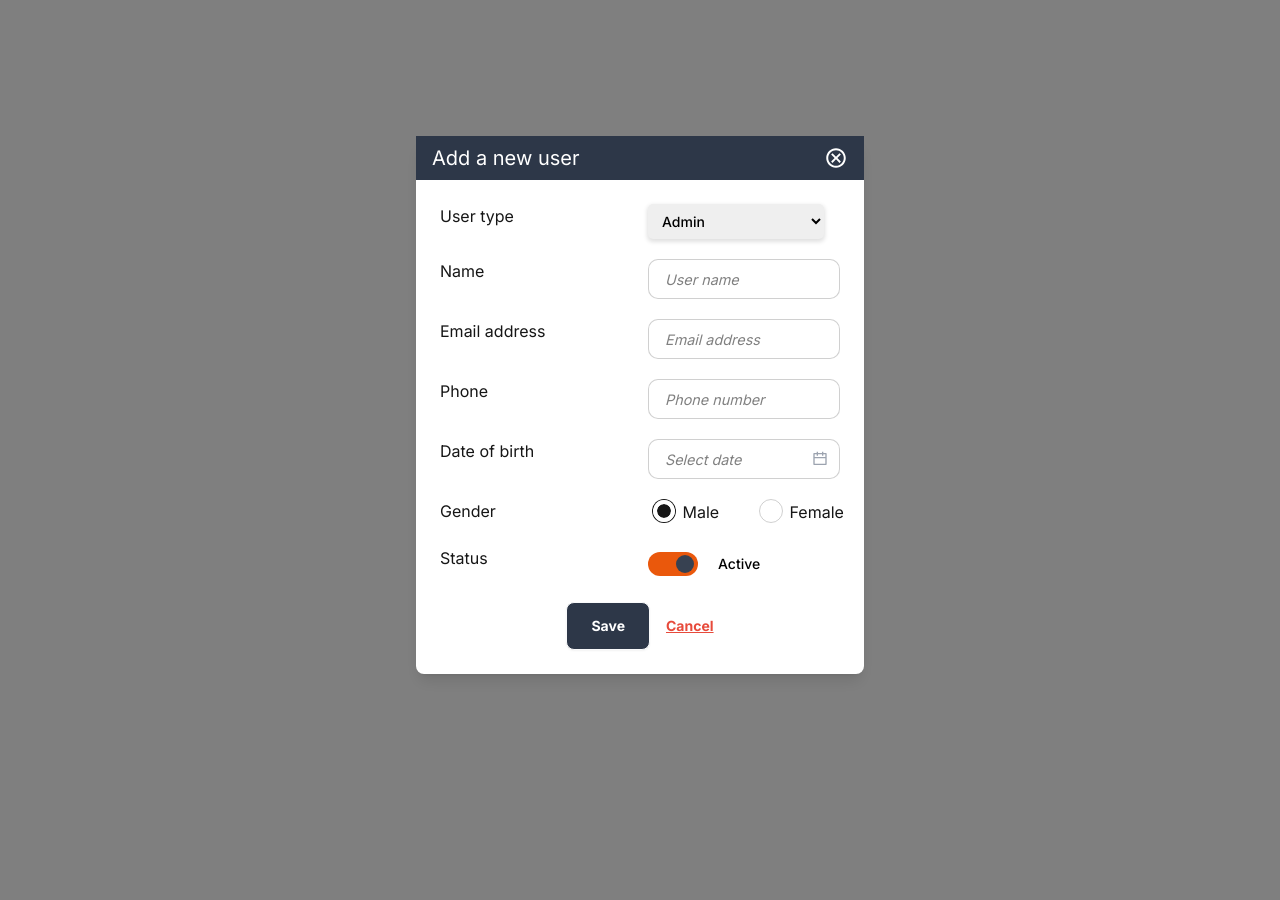
Test case: AddUserModal › Should throw an error if the input format is wrong
This screenshot has width=1280, height=900.
Select "admin" in the dropdown at (736, 222), box [648,204,824,239]
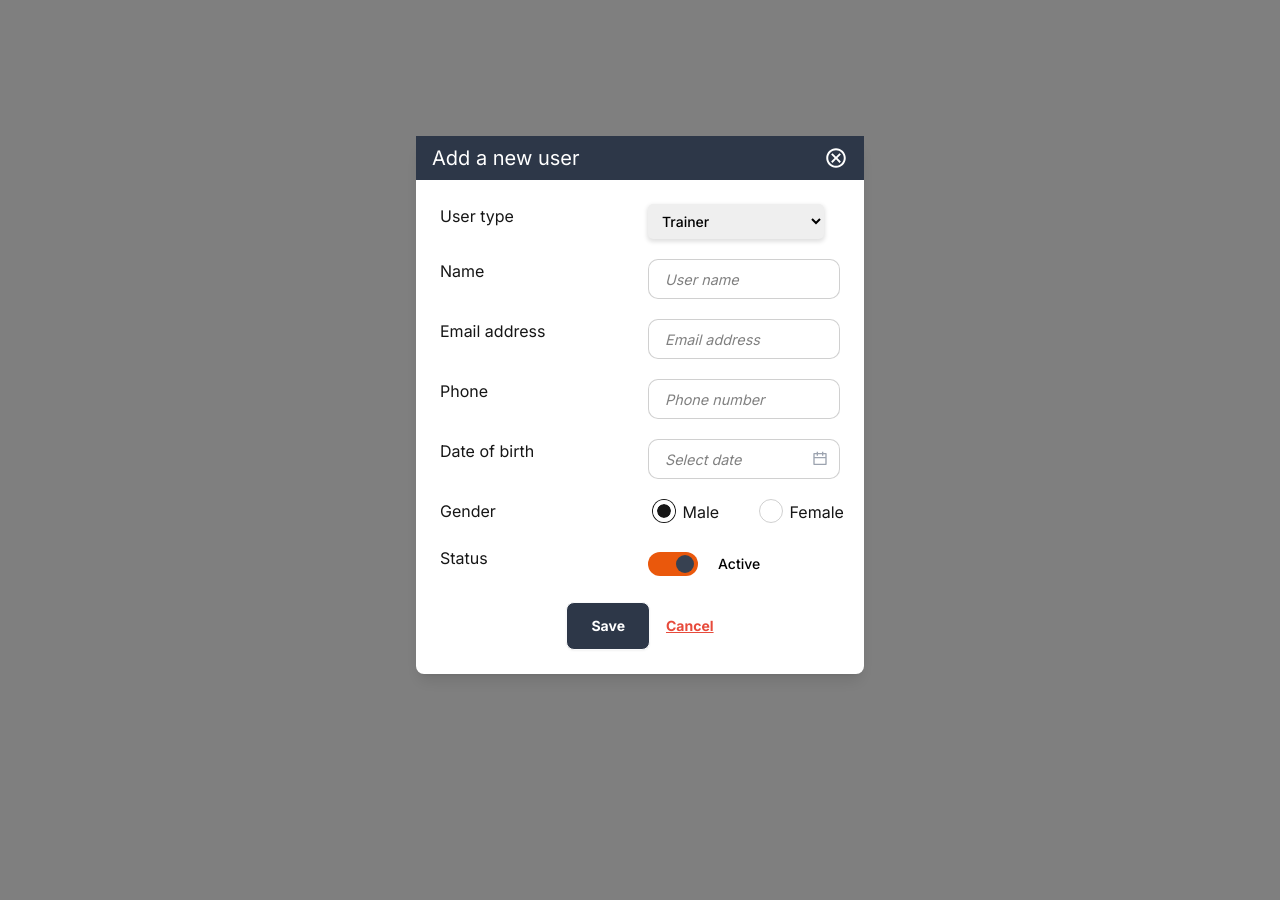
Type "test" into the field labelled "Email" at (744, 339), box [648,319,840,359]
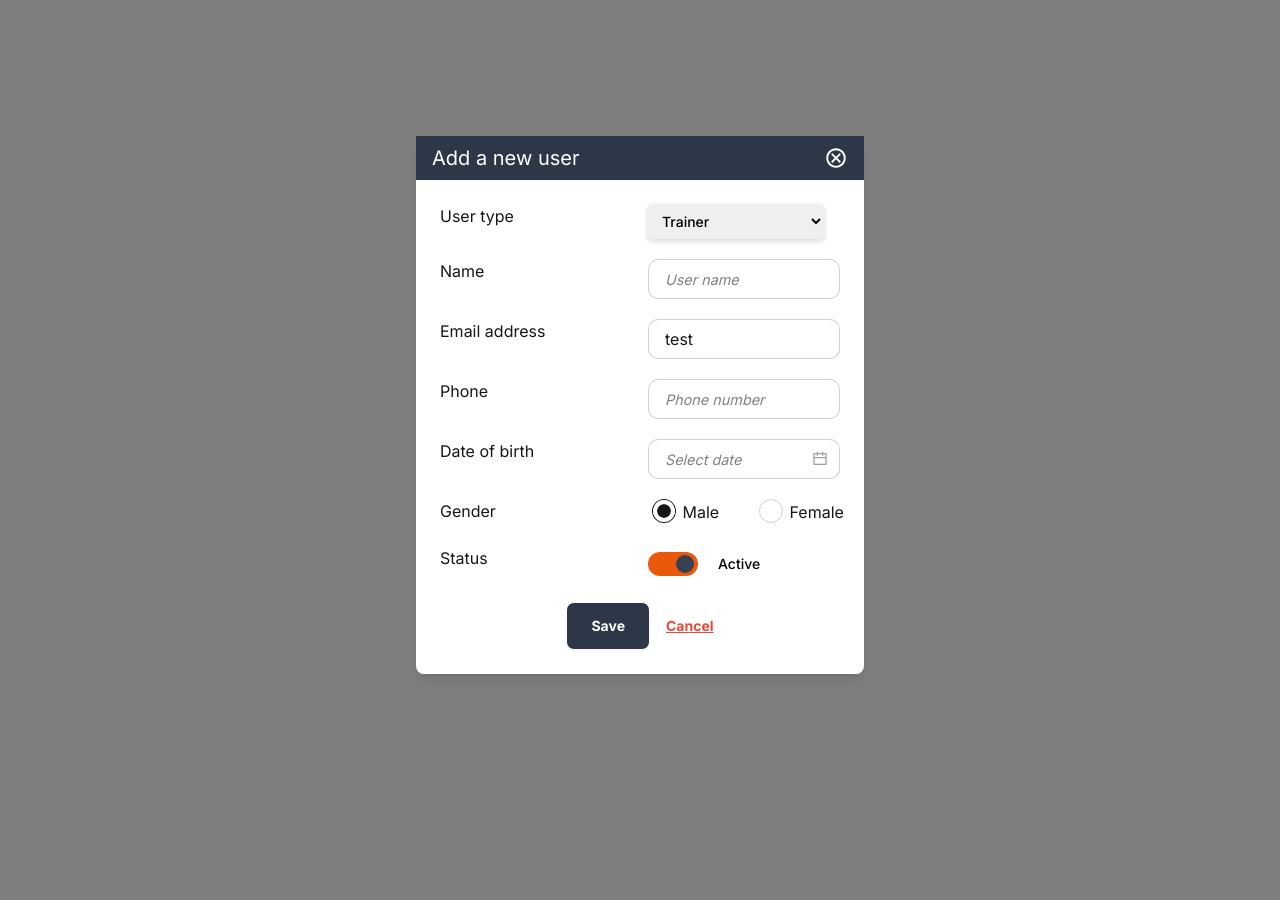
Type "test" into the field named "phone_number" at (744, 399), box [648,379,840,419]
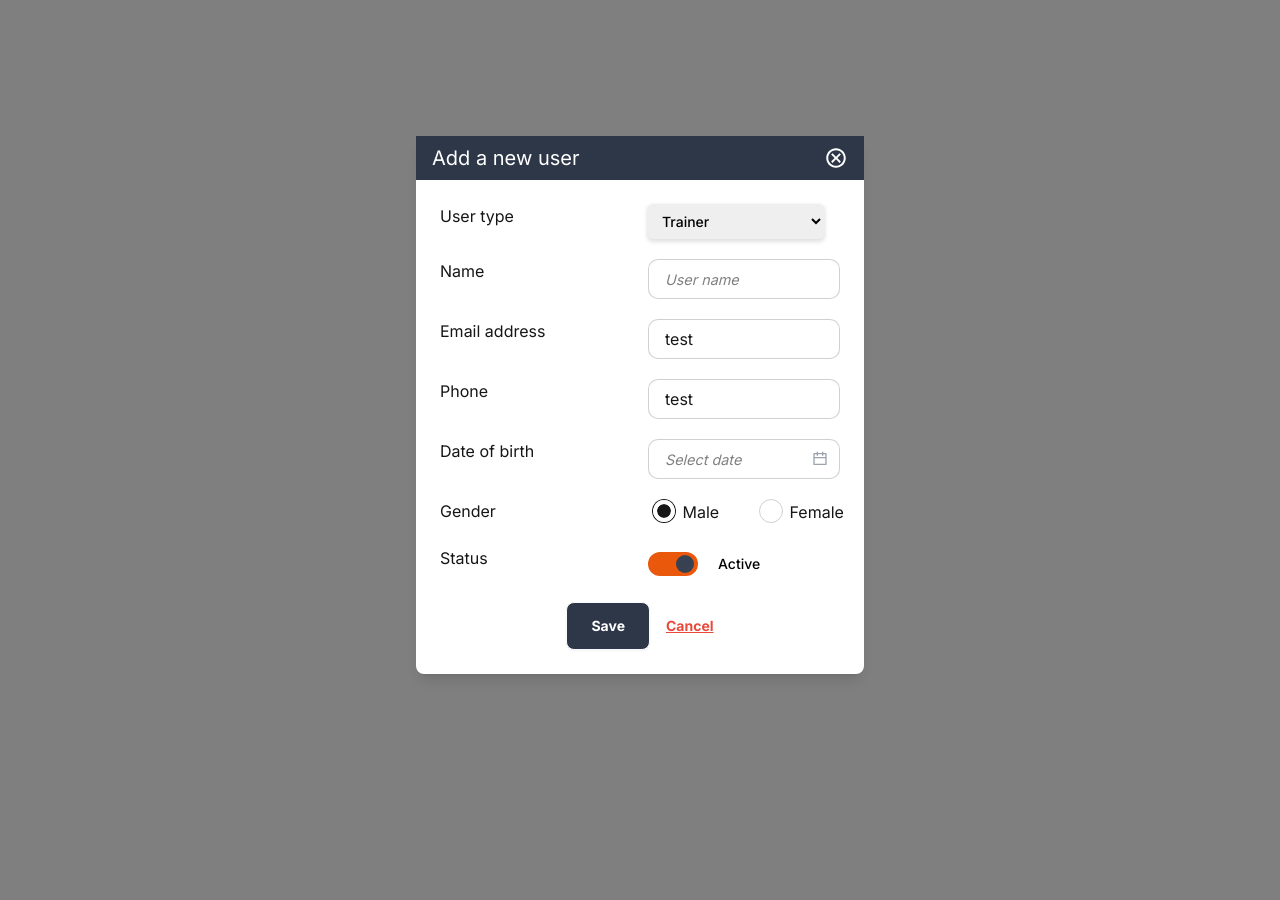
Click the button "Save" at (608, 626), box [566,602,650,650]
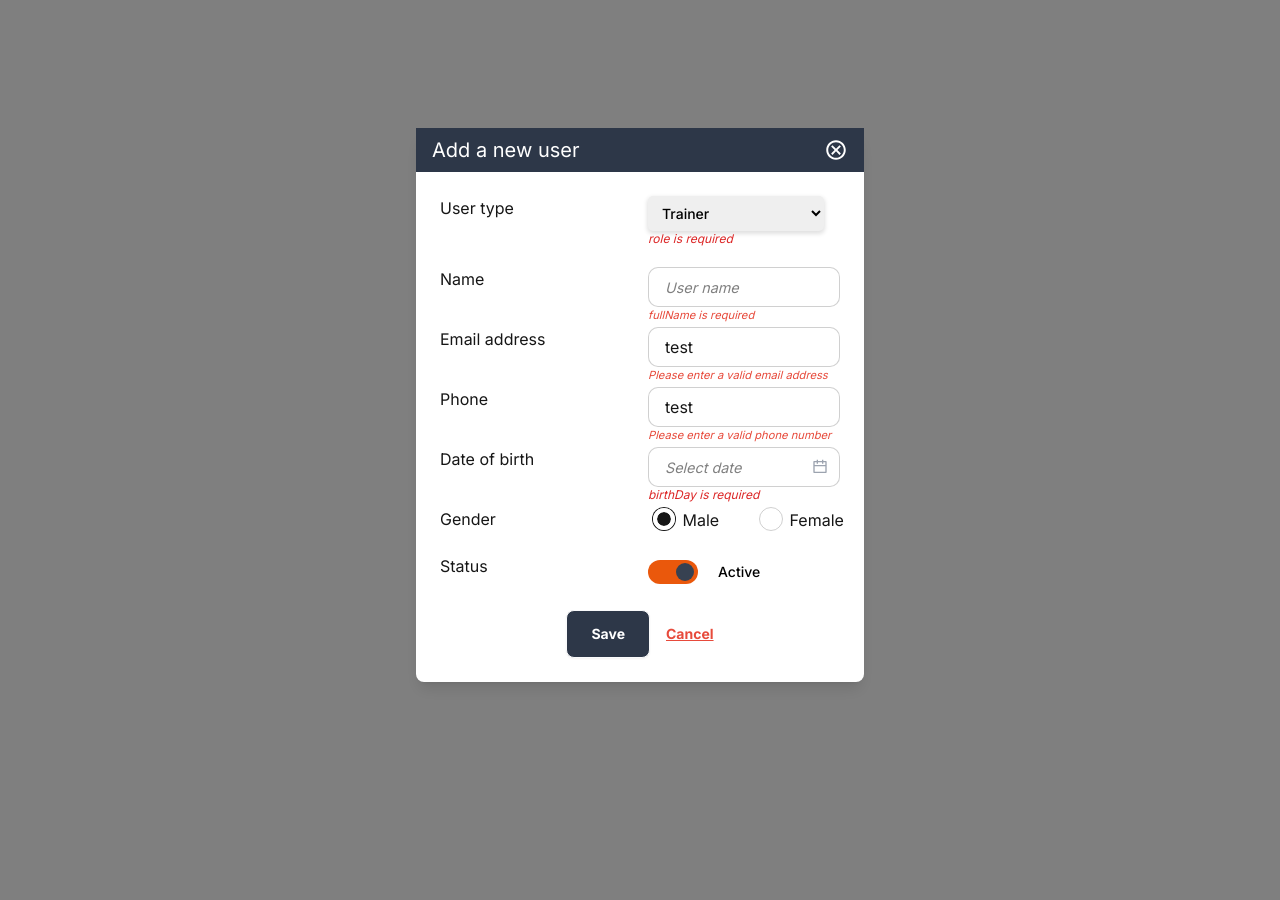
Expected: the text "Please enter a valid email address" is shown, [648,367,840,384]
Expected: the text "Please enter a valid phone number" is shown, [648,427,840,444]
Expected: the text "birthDay is required" is shown, [648,487,759,502]
